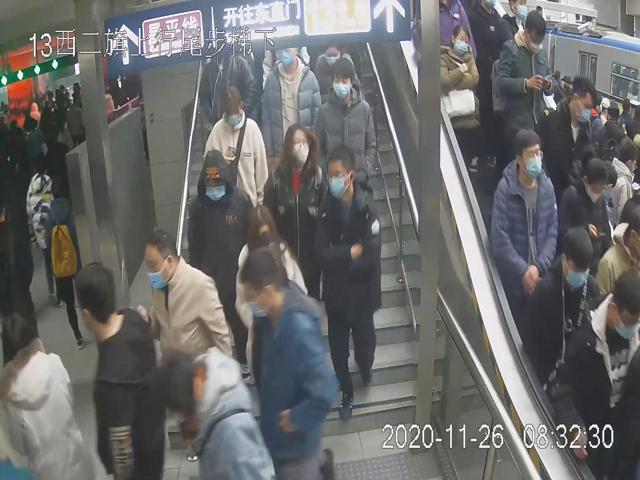person: (240, 249, 337, 480), (311, 144, 383, 422), (137, 227, 232, 391), (185, 147, 259, 348), (232, 203, 308, 380), (488, 124, 559, 307), (258, 123, 328, 293), (312, 56, 377, 188), (201, 84, 267, 204)
